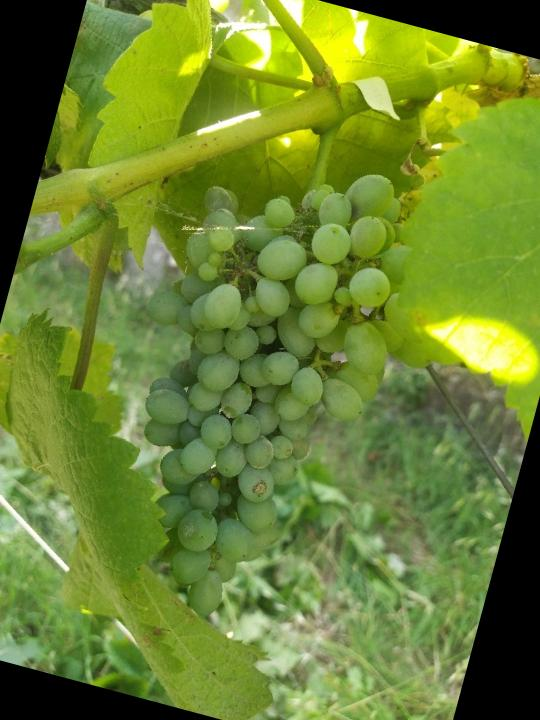grape: (85, 126, 444, 656)
